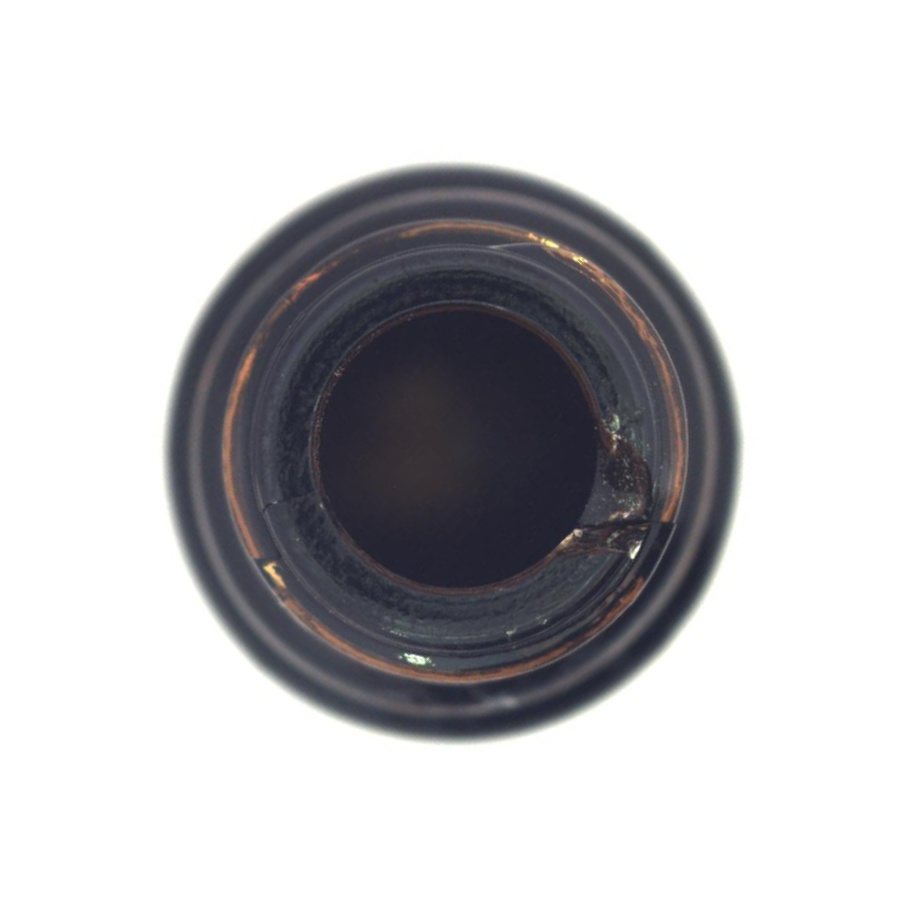bad-broken_small: (41, 43, 863, 865)
